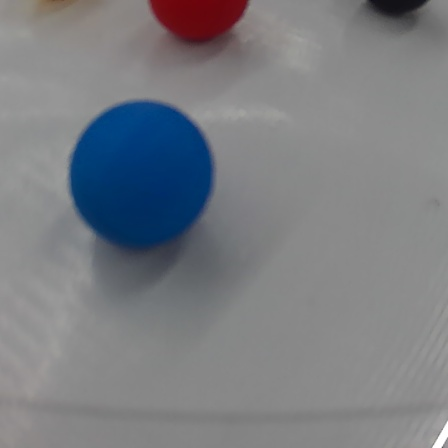blue: (69, 100, 216, 255)
red: (136, 0, 251, 53)
